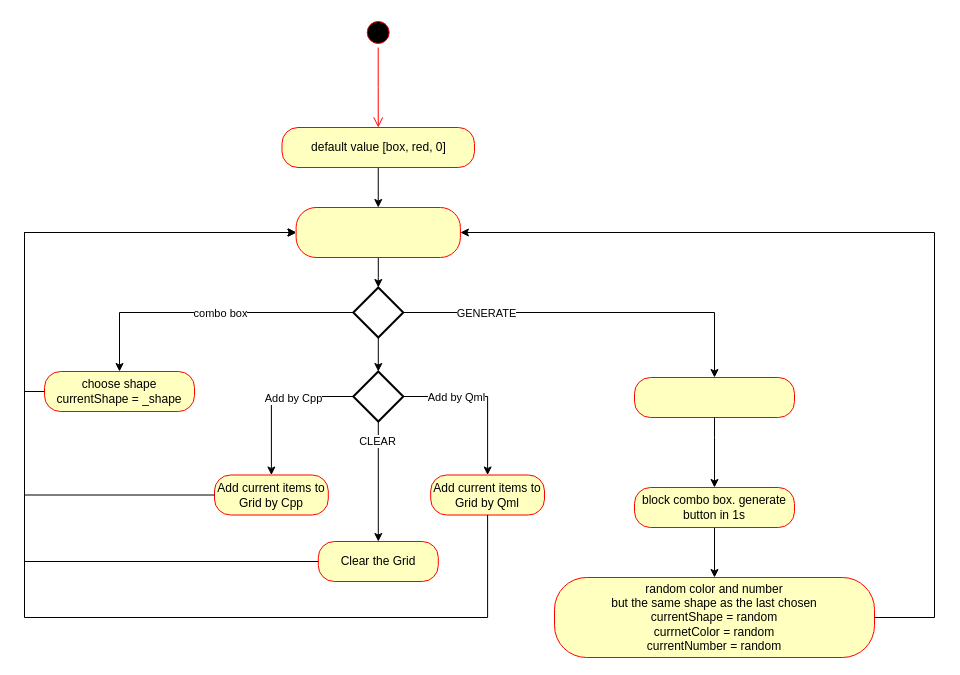
This 960x675 diagram has some shape labels left out. Here are the shapes that lost their labels. From the top down, the box of each, then its label:
(295, 206, 460, 258): choose option
(634, 376, 794, 418): items with random shape, color, number in 1s
